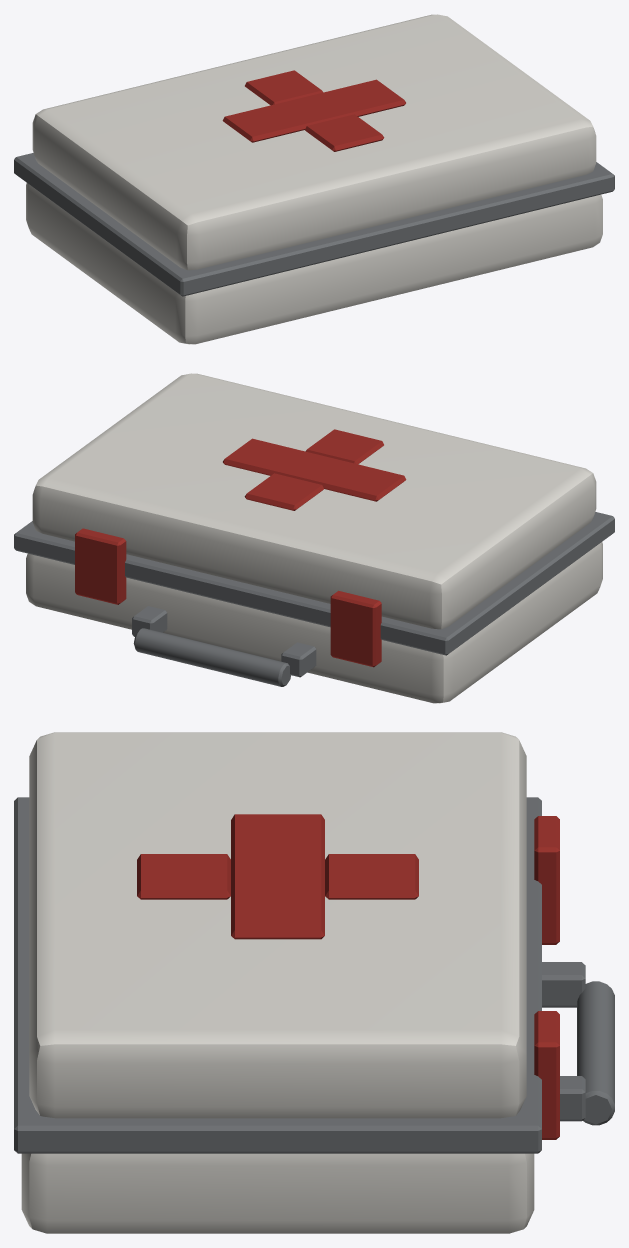
File: prop_deploy_fak.glb
The picture shows the model from 3 angles, top to bottom: view 1: azimuth 30°, elevation 25°; view 2: azimuth 150°, elevation 25°; view 3: azimuth 270°, elevation 25°; orthographic projection. The views are drawn at different scales.
Parts seen in each view (by area): view 1: Body; view 2: Body; view 3: Body.
Boxes of the visible parts, x1,y1,x2,y2 form: Body: [14, 14, 614, 344]; Body: [14, 373, 614, 703]; Body: [14, 732, 614, 1233].
Bounding box in the file's own units: 0.306 × 0.094 × 0.2344.
